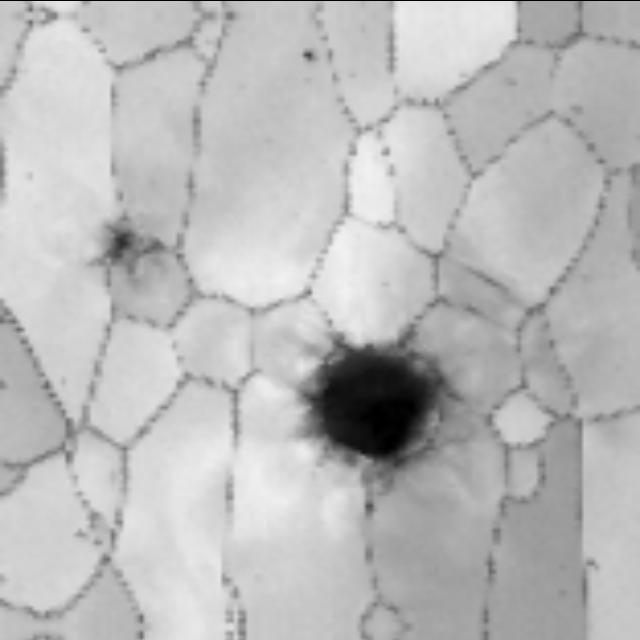good_void: (292, 315, 484, 500), (80, 203, 188, 294), (297, 46, 319, 63)
